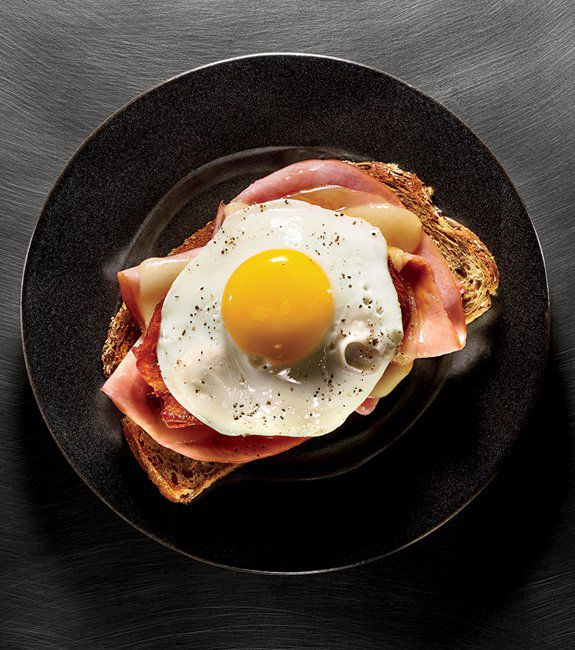fried egg: (186, 229, 377, 417)
